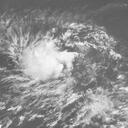cyclone: (14, 39, 73, 83)
